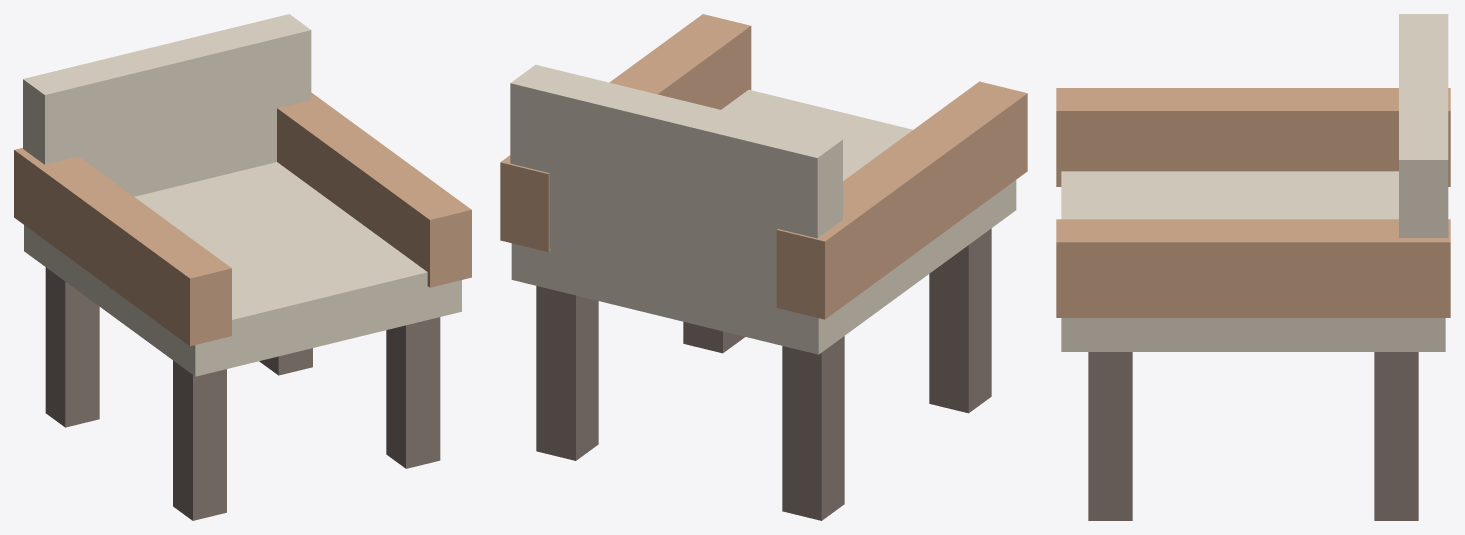
File: demo-armchair.glb
The picture shows the model from 3 angles, left to right: view 1: azimuth 30°, elevation 25°; view 2: azimuth 150°, elevation 25°; view 3: azimuth 270°, elevation 25°; orthographic projection. The views are drawn at different scales.
Parts seen in each view (by area): view 1: Upholstered seat, Back cushion, Left arm, Right arm, Front left leg, Front right leg, Rear left leg, Rear right leg; view 2: Back cushion, Left arm, Upholstered seat, Right arm, Rear left leg, Rear right leg, Front left leg, Front right leg; view 3: Right arm, Upholstered seat, Left arm, Back cushion, Front right leg, Rear right leg.
Boxes of the visible parts, bbox=[...] form: Upholstered seat: bbox=[24, 162, 461, 376]; Back cushion: bbox=[23, 14, 311, 196]; Left arm: bbox=[14, 147, 231, 346]; Right arm: bbox=[277, 92, 471, 287]; Front left leg: bbox=[173, 360, 226, 520]; Front right leg: bbox=[386, 317, 440, 468]; Rear left leg: bbox=[45, 267, 99, 427]; Rear right leg: bbox=[259, 348, 312, 375]; Back cushion: bbox=[510, 64, 842, 304]; Left arm: bbox=[776, 81, 1027, 319]; Upholstered seat: bbox=[511, 89, 1016, 354]; Right arm: bbox=[500, 14, 751, 251]; Rear left leg: bbox=[782, 336, 844, 520]; Rear right leg: bbox=[536, 286, 598, 460]; Front left leg: bbox=[929, 228, 991, 413]; Front right leg: bbox=[683, 321, 744, 353]; Right arm: bbox=[1056, 219, 1450, 317]; Upholstered seat: bbox=[1061, 171, 1445, 351]; Left arm: bbox=[1056, 88, 1450, 186]; Back cushion: bbox=[1399, 14, 1448, 237]; Front right leg: bbox=[1088, 352, 1132, 520]; Rear right leg: bbox=[1374, 352, 1418, 520].
Size of the model in its own units: 0.74 by 0.82 by 0.8.
